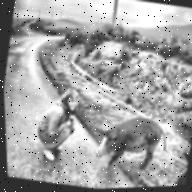boar: (88, 108, 173, 179), (171, 150, 191, 186)
